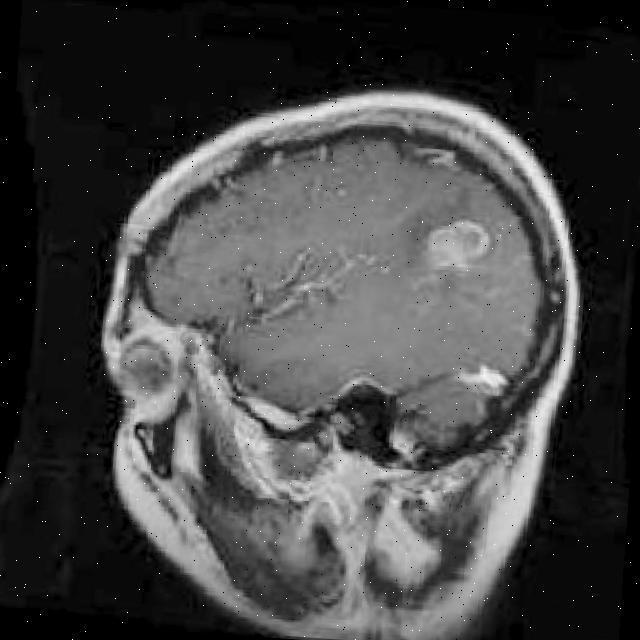EMCI: (425, 162, 494, 298)
